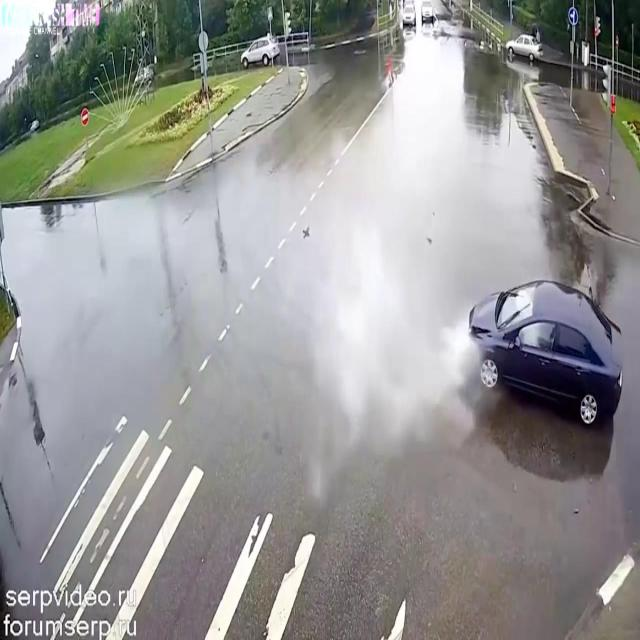accident: (433, 253, 629, 471)
